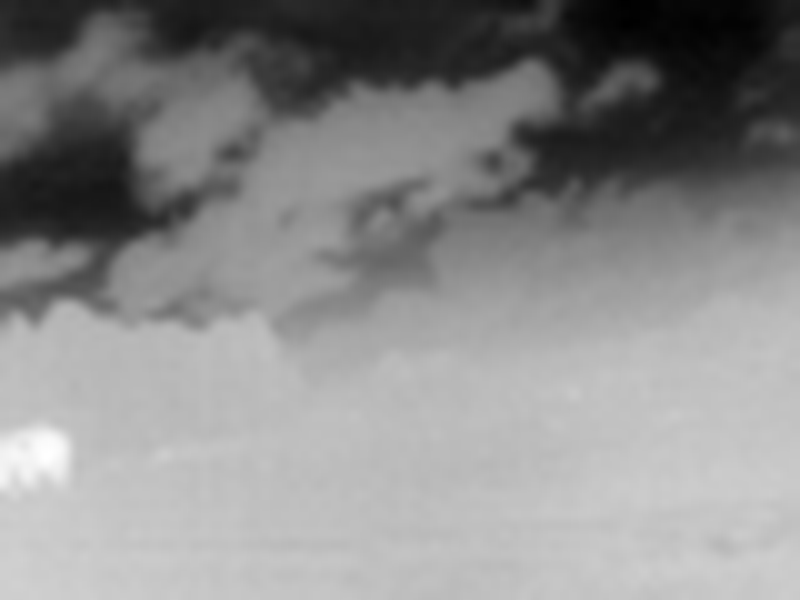elephant: (2, 415, 79, 504)
